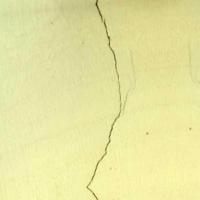crack: (80, 1, 126, 199)
